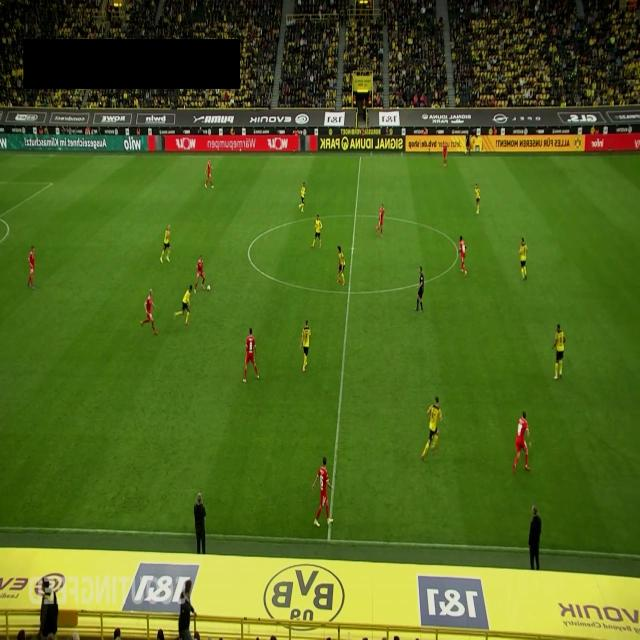ball: (207, 285, 211, 292)
player: (312, 455, 334, 527), (421, 395, 443, 462), (512, 410, 532, 474), (140, 288, 159, 336), (243, 328, 259, 382), (552, 323, 566, 380), (174, 284, 192, 326), (300, 319, 311, 373), (194, 254, 206, 294), (27, 245, 37, 289), (311, 213, 323, 249), (458, 235, 468, 278), (160, 224, 171, 263), (519, 236, 528, 282), (336, 245, 346, 286), (376, 202, 386, 238), (204, 158, 213, 188), (299, 182, 306, 212), (474, 182, 480, 214), (442, 141, 448, 167)
referee: (415, 265, 424, 312), (464, 130, 470, 158)
